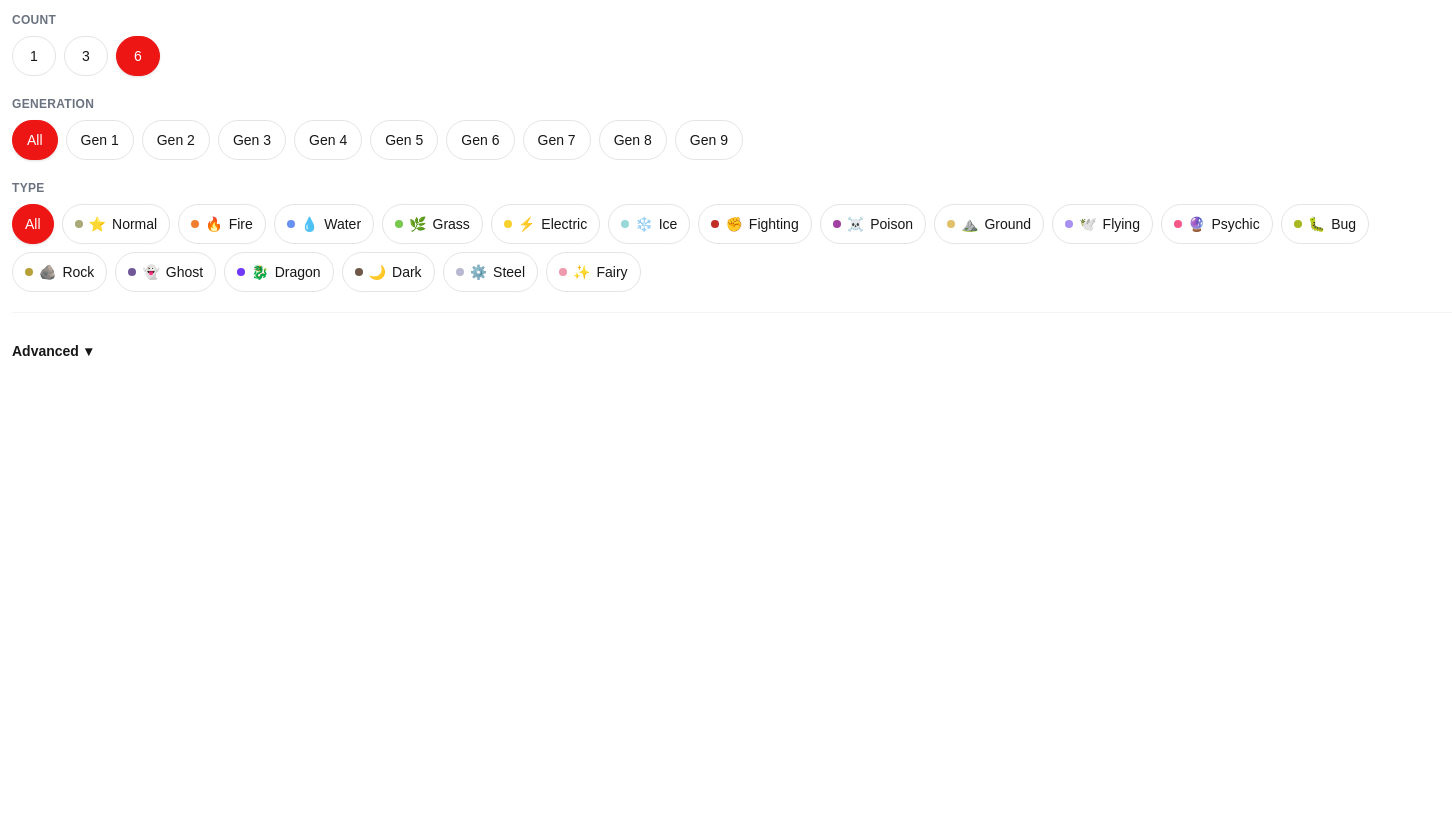
Test: Filters 组件 › Advanced 折叠 / 展开 › 点击 Advanced 按钮展开
Click the button "Advanced ▾": click(52, 351) top-left (12, 329), bottom-right (92, 373)
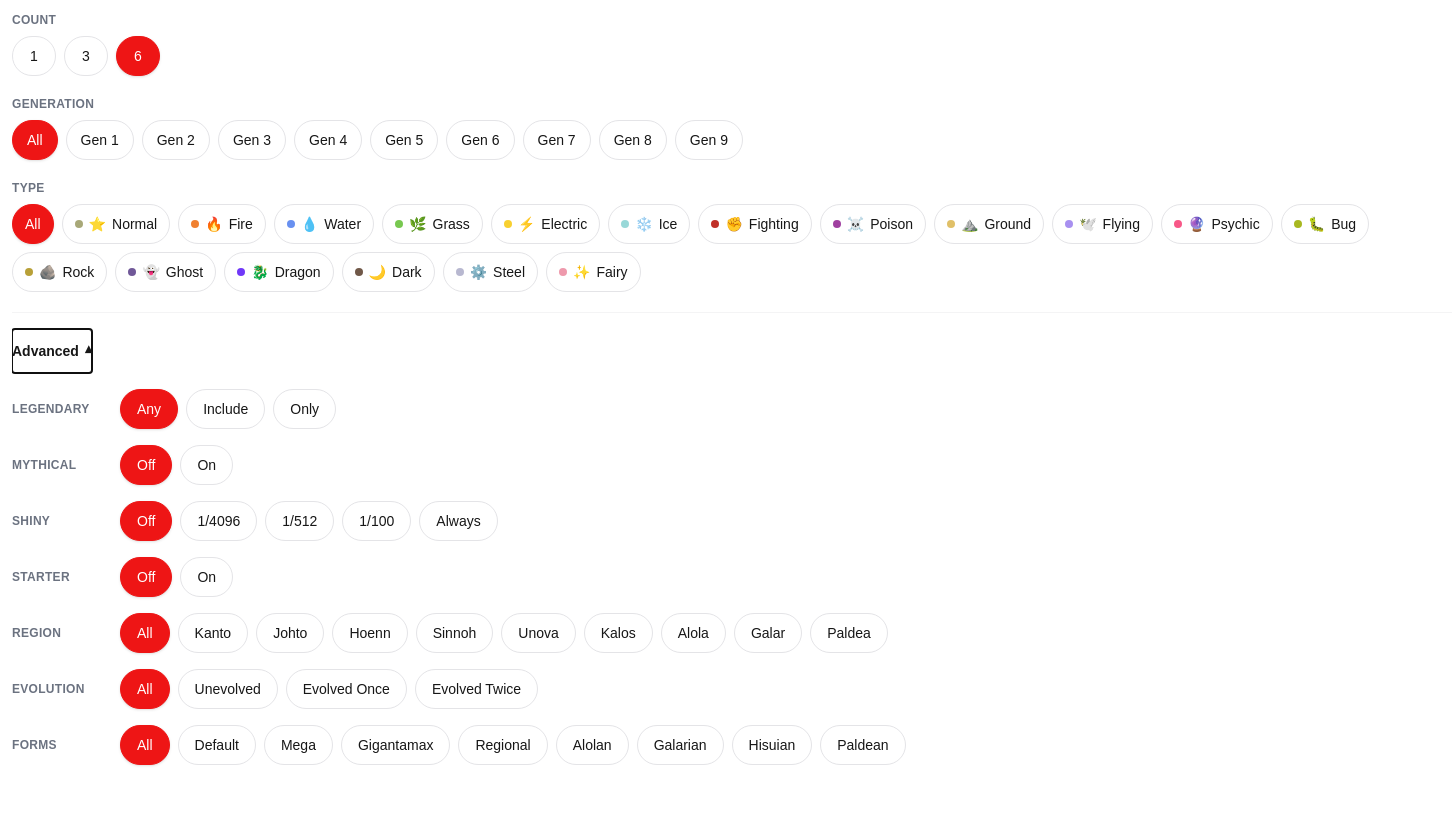
Check: the text "Legendary" is shown, box top-left (12, 402), bottom-right (90, 416)
Check: the text "Shiny" is shown, box top-left (12, 514), bottom-right (50, 528)
Check: the text "Starter" is shown, box top-left (12, 570), bottom-right (70, 584)
